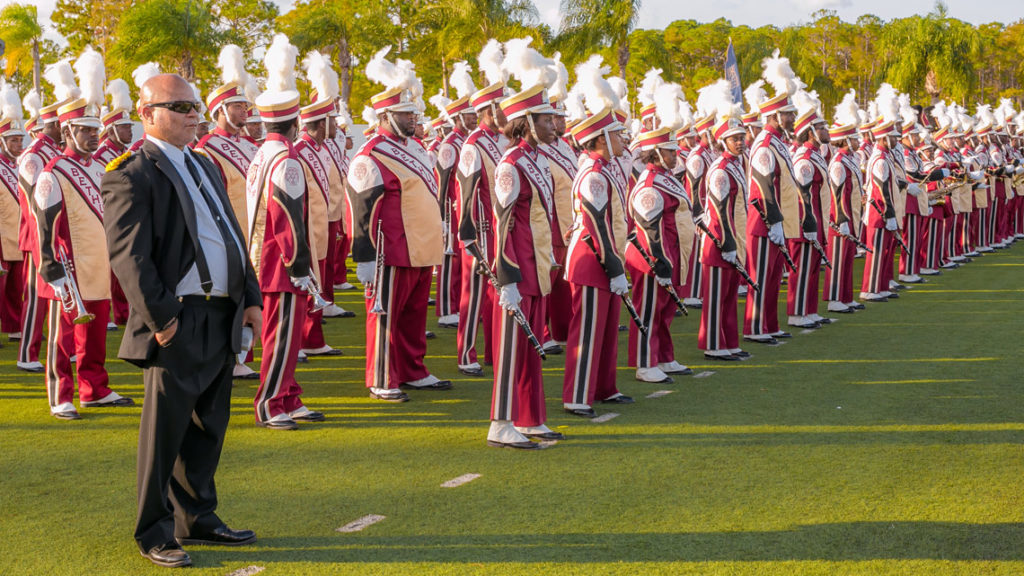feet: (127, 504, 259, 567), (354, 350, 455, 405), (476, 400, 566, 451), (43, 386, 139, 420), (248, 398, 327, 436), (282, 333, 349, 367), (10, 339, 79, 369), (449, 342, 498, 375), (696, 340, 749, 369), (740, 320, 793, 347), (783, 306, 838, 332), (823, 294, 865, 317), (858, 286, 902, 306), (880, 274, 908, 294), (914, 261, 943, 280), (896, 269, 929, 283), (935, 259, 963, 271), (959, 246, 980, 259)
